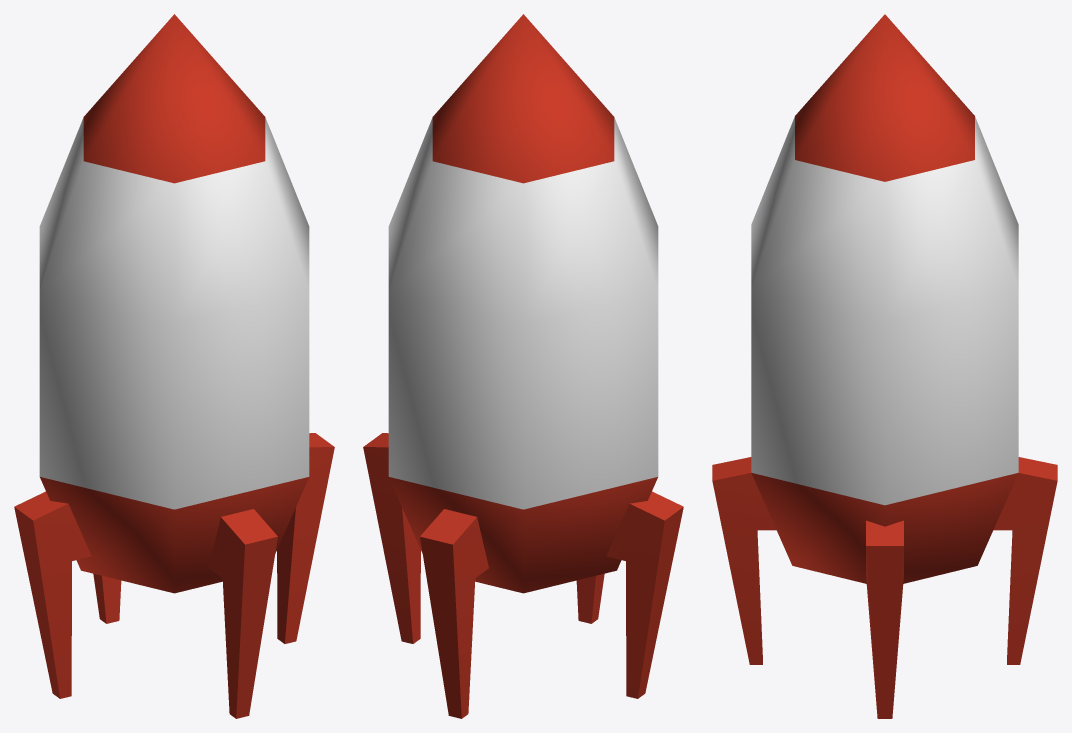
The model's file is Rocket.fbx.
3 views of the same model, side by side, from view 1: azimuth 30°, elevation 25°; view 2: azimuth 150°, elevation 25°; view 3: azimuth 270°, elevation 25° (orthographic).
Visible parts, largest first — view 1: rocket; view 2: rocket; view 3: rocket.
Part boxes in pixels (x1,y1,x2,y2): rocket: (14,14,334,718); rocket: (363,14,683,718); rocket: (712,14,1057,718).
Size of the model in its own units: 0.6034 by 1.25 by 0.6034.
Materials: 1 (1 with a texture image).
